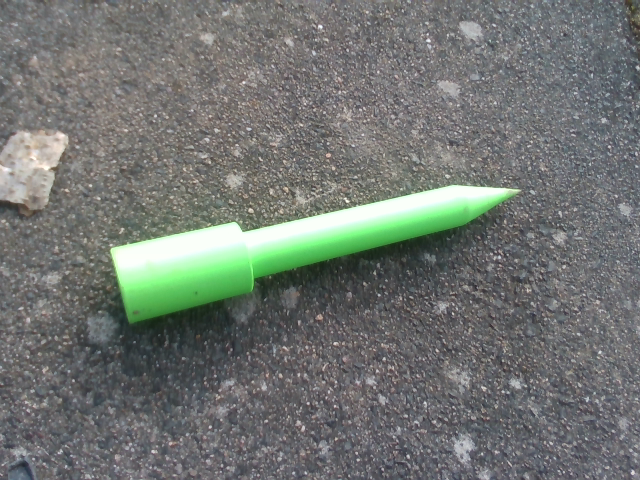Probe: (95, 164, 534, 341)
